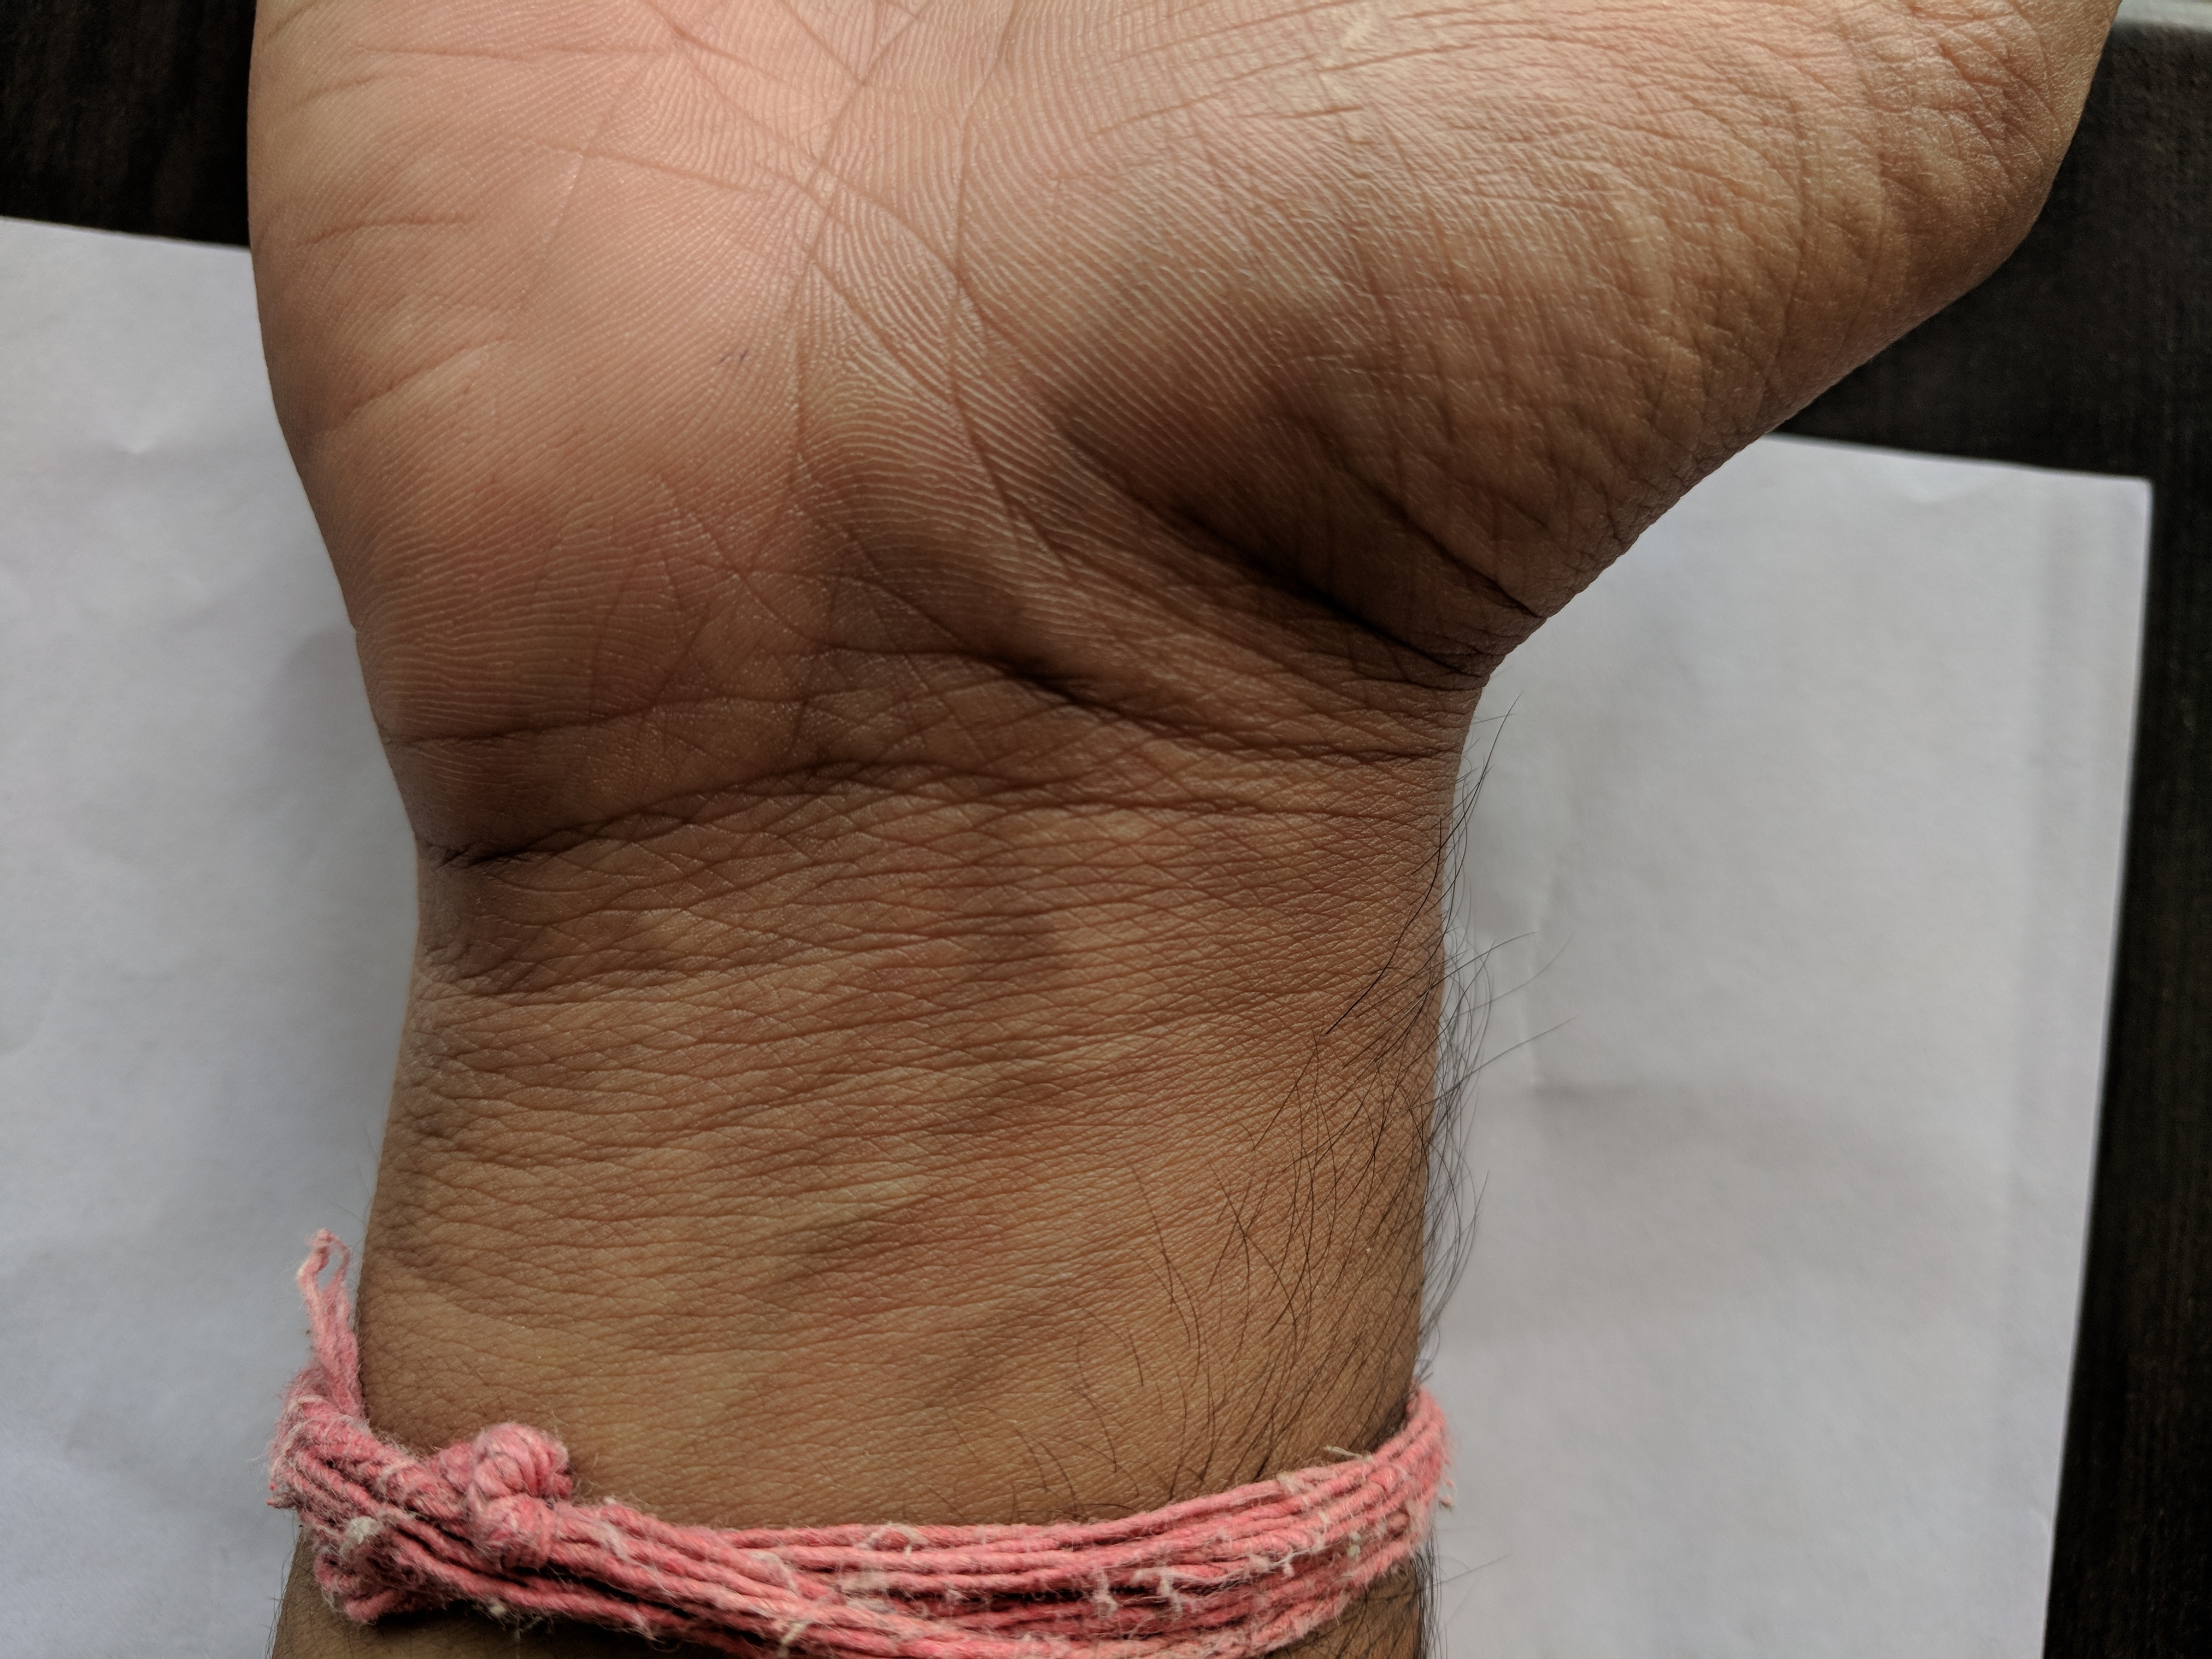righthandwrist: (357, 653, 1522, 1094)
